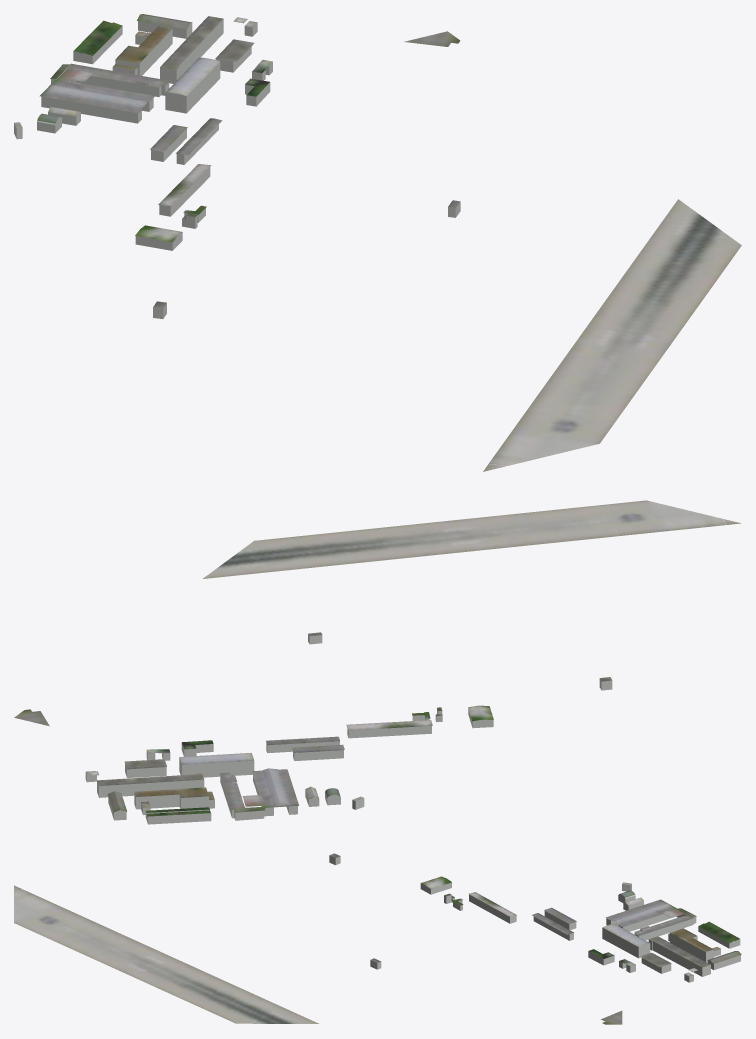
File: LSGG_-3_-2.glb
The picture shows the model from 3 angles, top to bottom: view 1: azimuth 30°, elevation 25°; view 2: azimuth 150°, elevation 25°; view 3: azimuth 270°, elevation 25°; orthographic projection. The views are drawn at different scales.
Visible parts, largest first — view 1: pavement_LSGG_pavement_4992_2241, building_e85632e5b600fb44, building_930572765f6ceb84, building_50b907dc1f444261, building_a89de98be0d03c5e, building_4d905ce02ed23277, building_f646aacc6b244677, building_79fb0f4175fd4cef; view 2: pavement_LSGG_pavement_4992_2241, building_930572765f6ceb84, building_e85632e5b600fb44, building_50b907dc1f444261, building_f646aacc6b244677, building_4d905ce02ed23277, building_618d1354754e5204, building_a89de98be0d03c5e, building_79fb0f4175fd4cef; view 3: pavement_LSGG_pavement_4992_2241, building_930572765f6ceb84, building_e85632e5b600fb44, building_50b907dc1f444261, building_a89de98be0d03c5e, building_f646aacc6b244677, building_4d905ce02ed23277, building_618d1354754e5204, building_79fb0f4175fd4cef, building_232c2a16c8b14a22.
Boxes of the visible parts, x1,y1,x2,y2 form: pavement_LSGG_pavement_4992_2241: [404, 31, 741, 471]; building_e85632e5b600fb44: [50, 14, 272, 96]; building_930572765f6ceb84: [51, 19, 272, 113]; building_50b907dc1f444261: [14, 70, 154, 128]; building_a89de98be0d03c5e: [14, 74, 153, 139]; building_4d905ce02ed23277: [150, 125, 211, 205]; building_f646aacc6b244677: [151, 129, 210, 216]; building_79fb0f4175fd4cef: [176, 78, 269, 155]; pavement_LSGG_pavement_4992_2241: [14, 500, 740, 726]; building_930572765f6ceb84: [85, 751, 265, 824]; building_e85632e5b600fb44: [86, 749, 265, 816]; building_50b907dc1f444261: [233, 768, 363, 807]; building_f646aacc6b244677: [293, 726, 431, 760]; building_4d905ce02ed23277: [292, 720, 432, 752]; building_618d1354754e5204: [181, 741, 339, 756]; building_a89de98be0d03c5e: [245, 776, 364, 816]; building_79fb0f4175fd4cef: [182, 736, 339, 749]; pavement_LSGG_pavement_4992_2241: [14, 885, 622, 1024]; building_930572765f6ceb84: [602, 908, 740, 982]; building_e85632e5b600fb44: [603, 908, 741, 976]; building_50b907dc1f444261: [605, 882, 685, 927]; building_a89de98be0d03c5e: [606, 884, 675, 931]; building_f646aacc6b244677: [469, 894, 576, 930]; building_4d905ce02ed23277: [468, 892, 576, 923]; building_618d1354754e5204: [533, 916, 614, 965]; building_79fb0f4175fd4cef: [532, 913, 614, 958]; building_232c2a16c8b14a22: [420, 882, 462, 910].
Bounding box in the file's own units: 320 × 12.96 × 598.
Materials: 3 (2 with a texture image).
